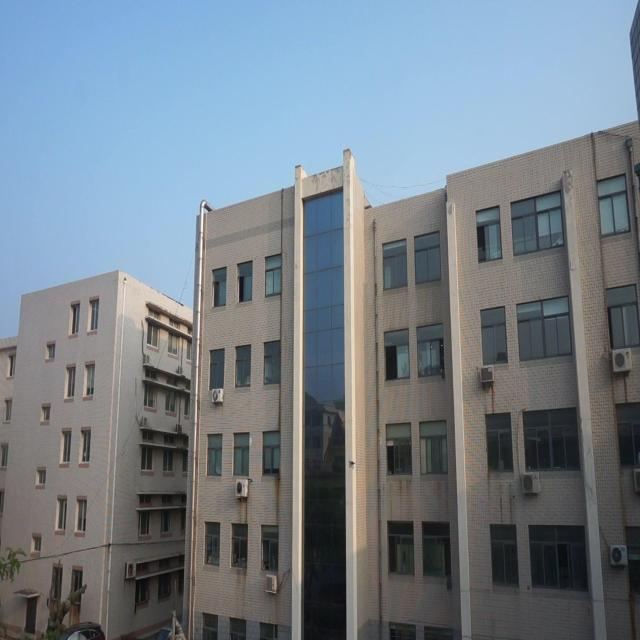drone: (344, 455, 358, 471)
